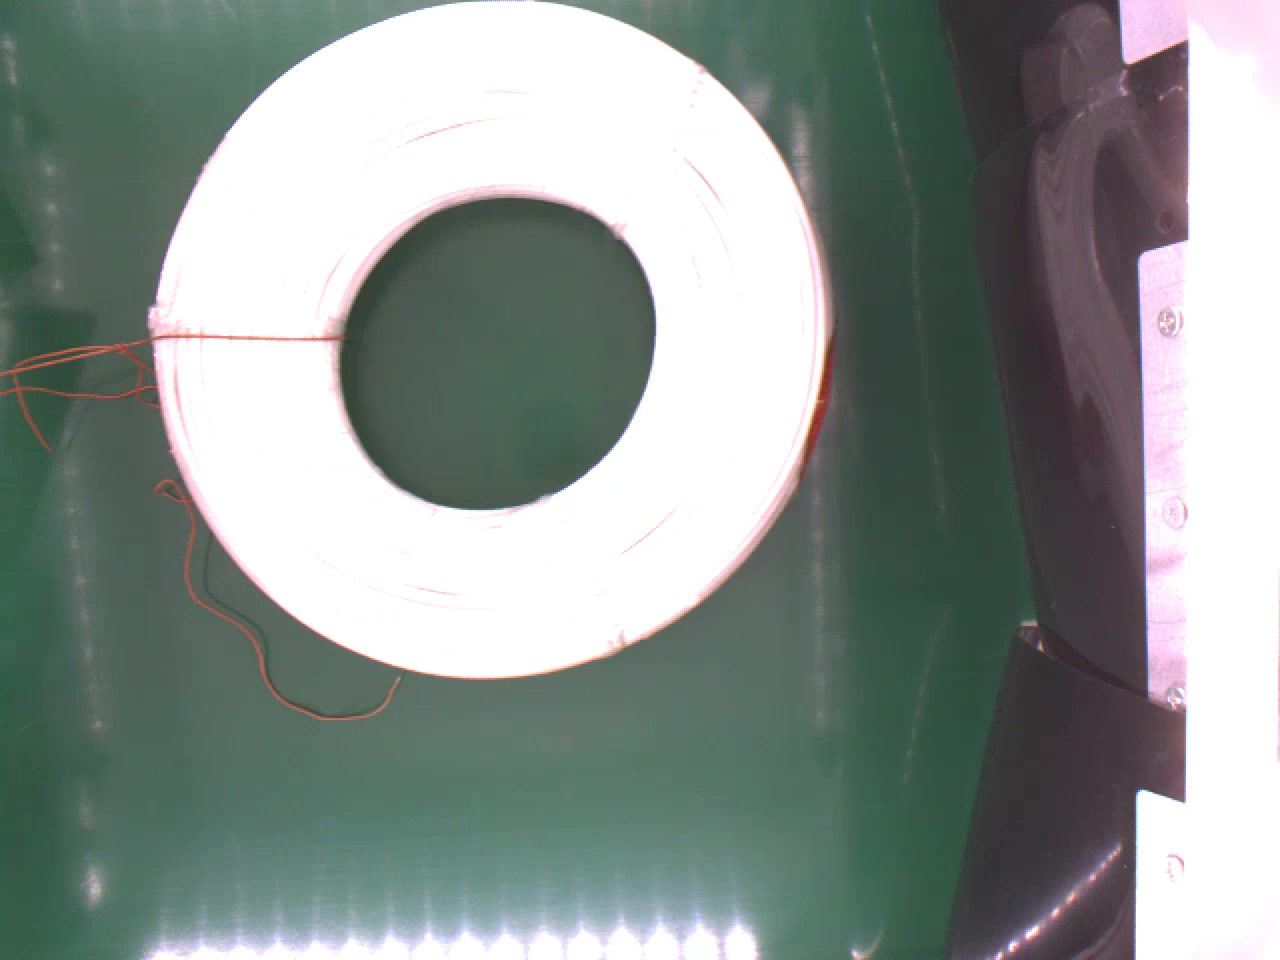white: (149, 0, 839, 676)
